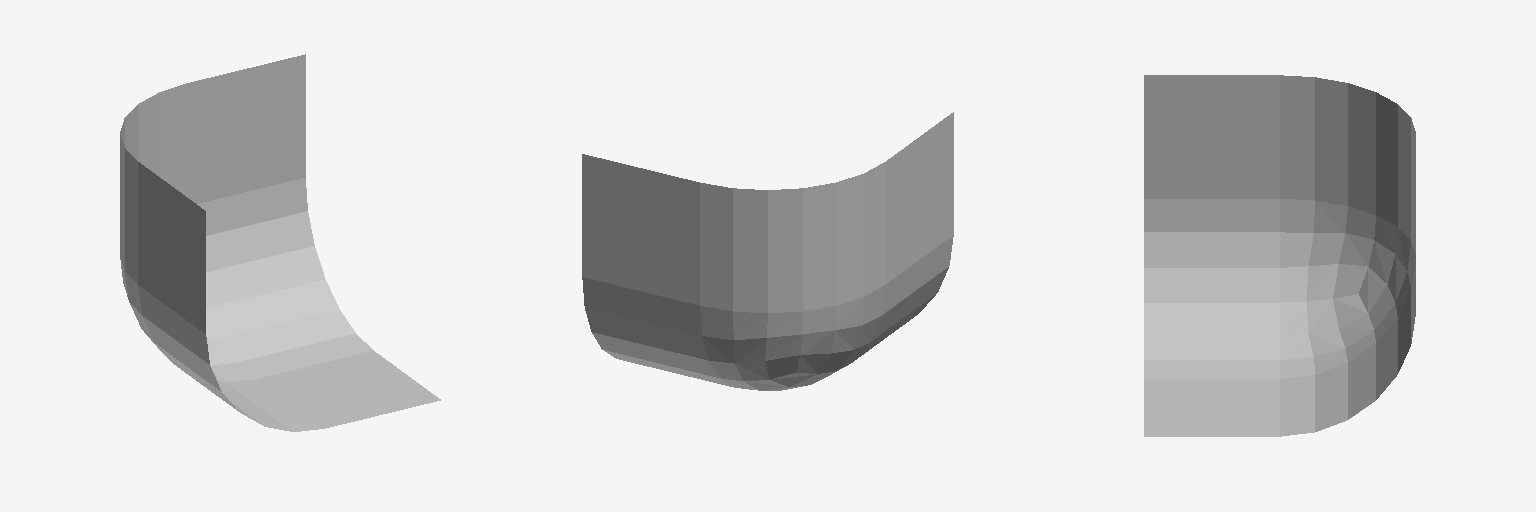
Rendered from BackDrop.obj.
The picture shows the model from 3 angles: view 1: azimuth 30°, elevation 25°; view 2: azimuth 150°, elevation 25°; view 3: azimuth 270°, elevation 25°; orthographic projection.
Parts seen in each view (by area): view 1: pCube1; view 2: pCube1; view 3: pCube1.
Boxes of the visible parts, x1,y1,x2,y2 form: pCube1: [120, 54, 440, 431]; pCube1: [582, 112, 953, 390]; pCube1: [1144, 75, 1415, 436].
Size of the model in its own units: 16.12 by 16.12 by 16.12.